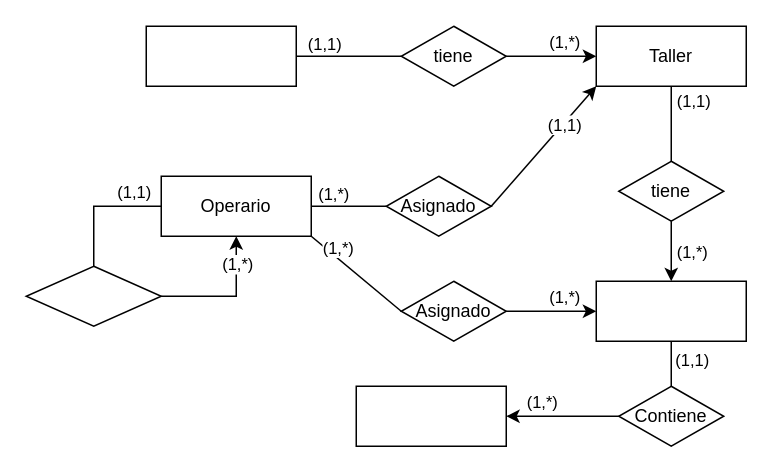
Some shapes in this 773 by 473 pixel diagram are drawn without their labels. The centre of each missing label's shape, as x and y in pixels:
Celula de fabricacion: point (670, 310)
Fabrica: point (220, 55)
Maquina: point (430, 415)
Responsable: point (93, 295)
